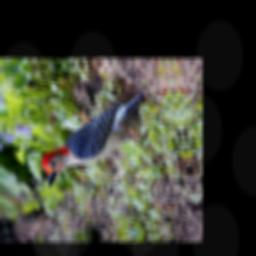Woodpecker: (28, 91, 164, 188)
